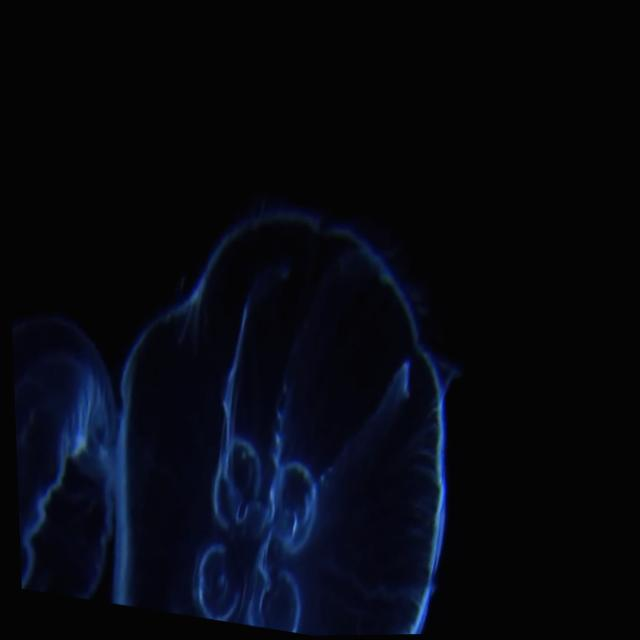Moon-jellyfish: (108, 207, 441, 637)
